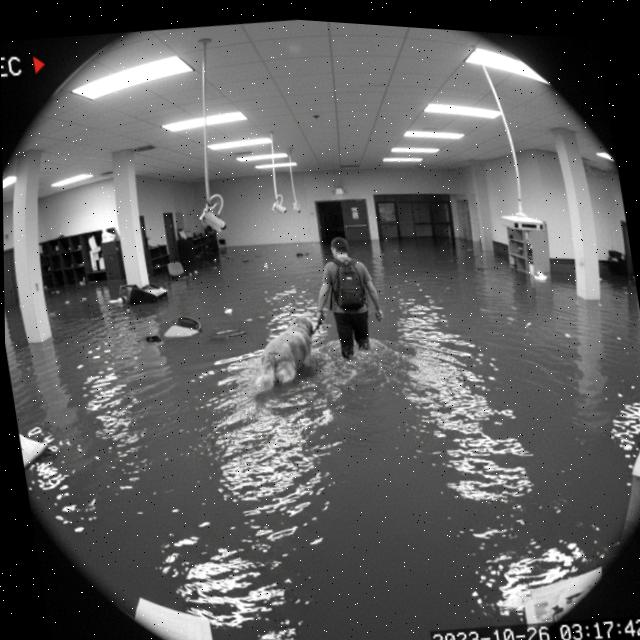civilian: (306, 219, 398, 373)
dog: (242, 300, 329, 402)
